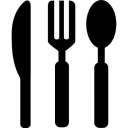Fork: (40, 1, 90, 128)
